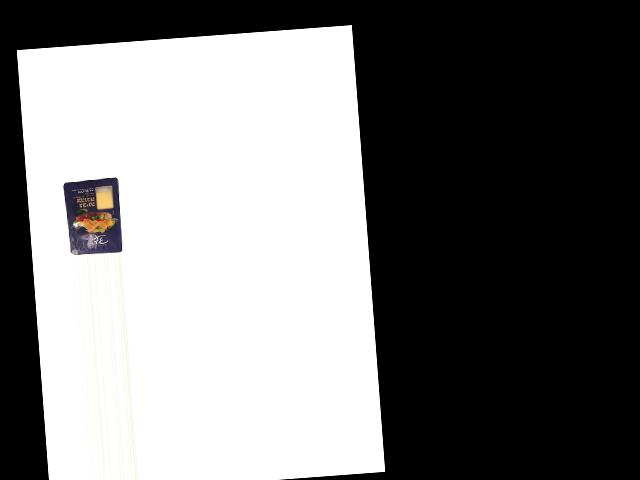cheese: (61, 177, 123, 256)
